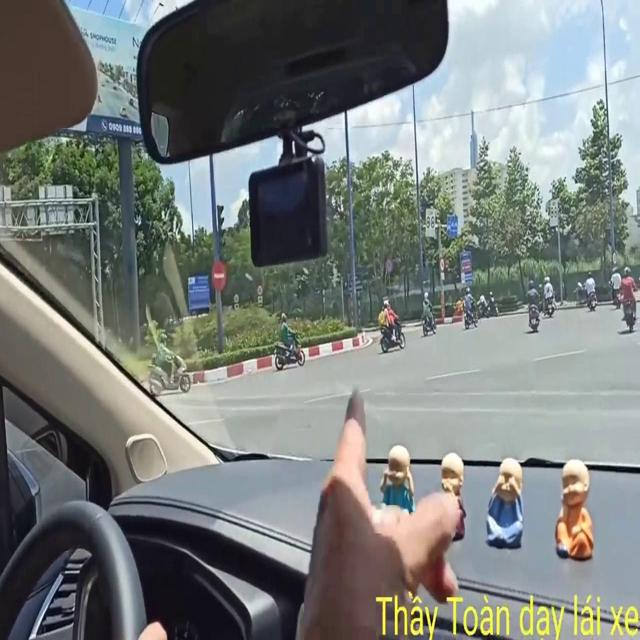Cấm các phương tiện hoạt động trong khung giờ cố định: (422, 205, 437, 237), (543, 196, 559, 225)
Cấm dừng - Cấm đỗ: (381, 253, 395, 275)
Cấm xe máy: (436, 252, 447, 270)
Cấm đi ngược chiều: (210, 260, 230, 294)
Khác: (183, 269, 210, 315), (455, 247, 474, 282), (342, 270, 368, 291)
Làn đường cho từng xe: (445, 207, 458, 240)
